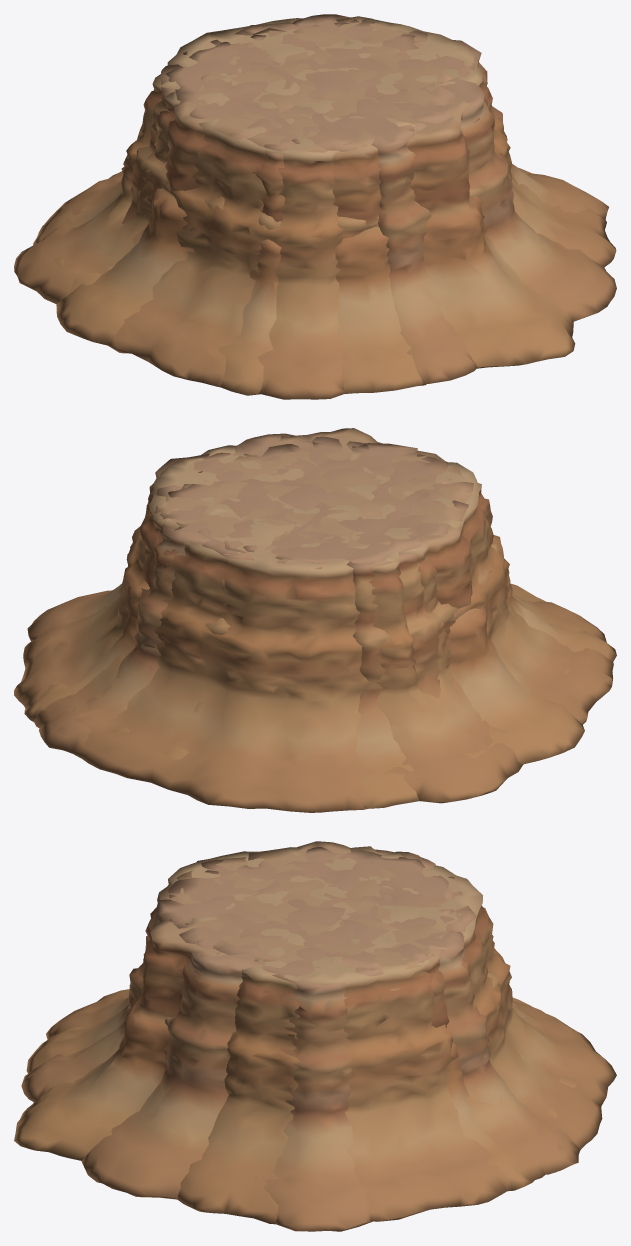
Rendered from rocks.glb.
The picture shows the model from 3 angles, top to bottom: view 1: azimuth 30°, elevation 25°; view 2: azimuth 150°, elevation 25°; view 3: azimuth 270°, elevation 25°; orthographic projection.
Parts seen in each view (by area): view 1: mesa1, mesa2, mesa3, mesa0; view 2: mesa1, mesa2, mesa3, mesa0; view 3: mesa1, mesa3, mesa2, mesa0.
Boxes of the visible parts, x1,y1,x2,y2 form: mesa1: (14,18,616,399); mesa2: (56,16,575,395); mesa3: (159,14,616,384); mesa0: (33,22,455,302); mesa1: (14,445,613,812); mesa2: (24,428,616,764); mesa3: (27,433,466,753); mesa0: (163,442,522,808); mesa1: (46,846,616,1224); mesa3: (21,847,580,1231); mesa2: (14,841,557,1191); mesa0: (143,849,578,1088).
Size of what is drawn, in the model's own units: 684 by 232 by 666.
